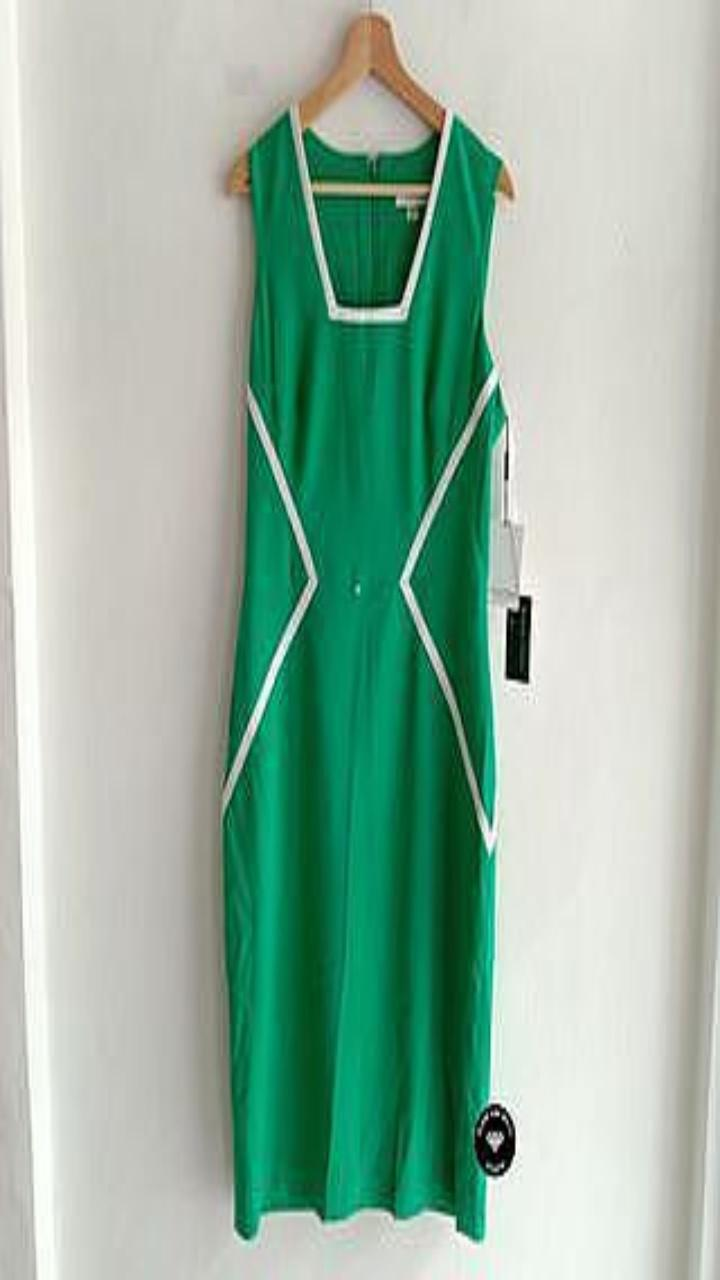Dresses: (222, 103, 504, 1239)
